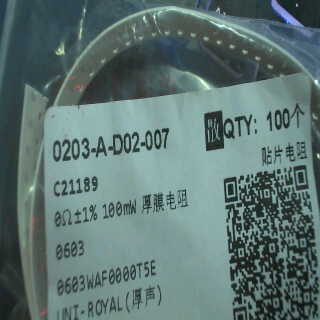0R: (48, 200, 139, 263)
